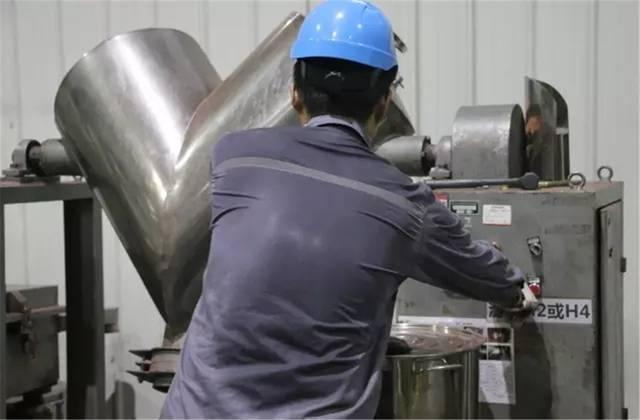helmet: (293, 1, 402, 71)
